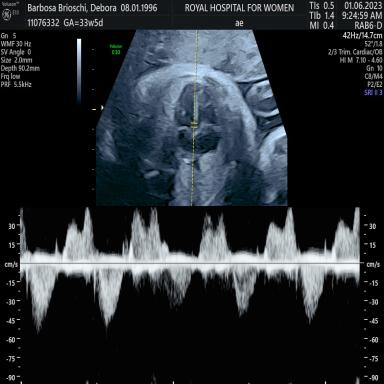Ultrasound-Waves: (24, 207, 359, 384)
